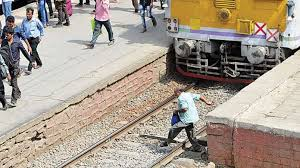crossing railway track: (161, 85, 210, 161)
